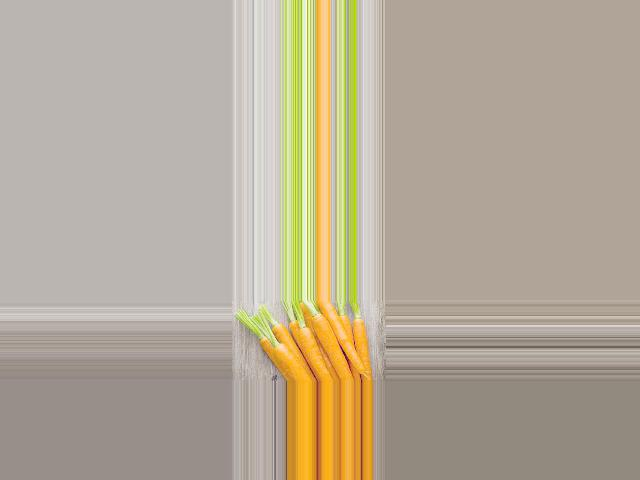carrot: (272, 310, 306, 379)
